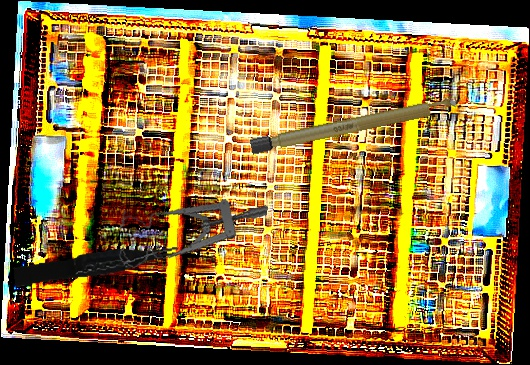Scalpel Handle: (249, 95, 460, 156)
Speculum: (113, 180, 269, 289)
Tissue Forceps: (12, 242, 181, 288)
